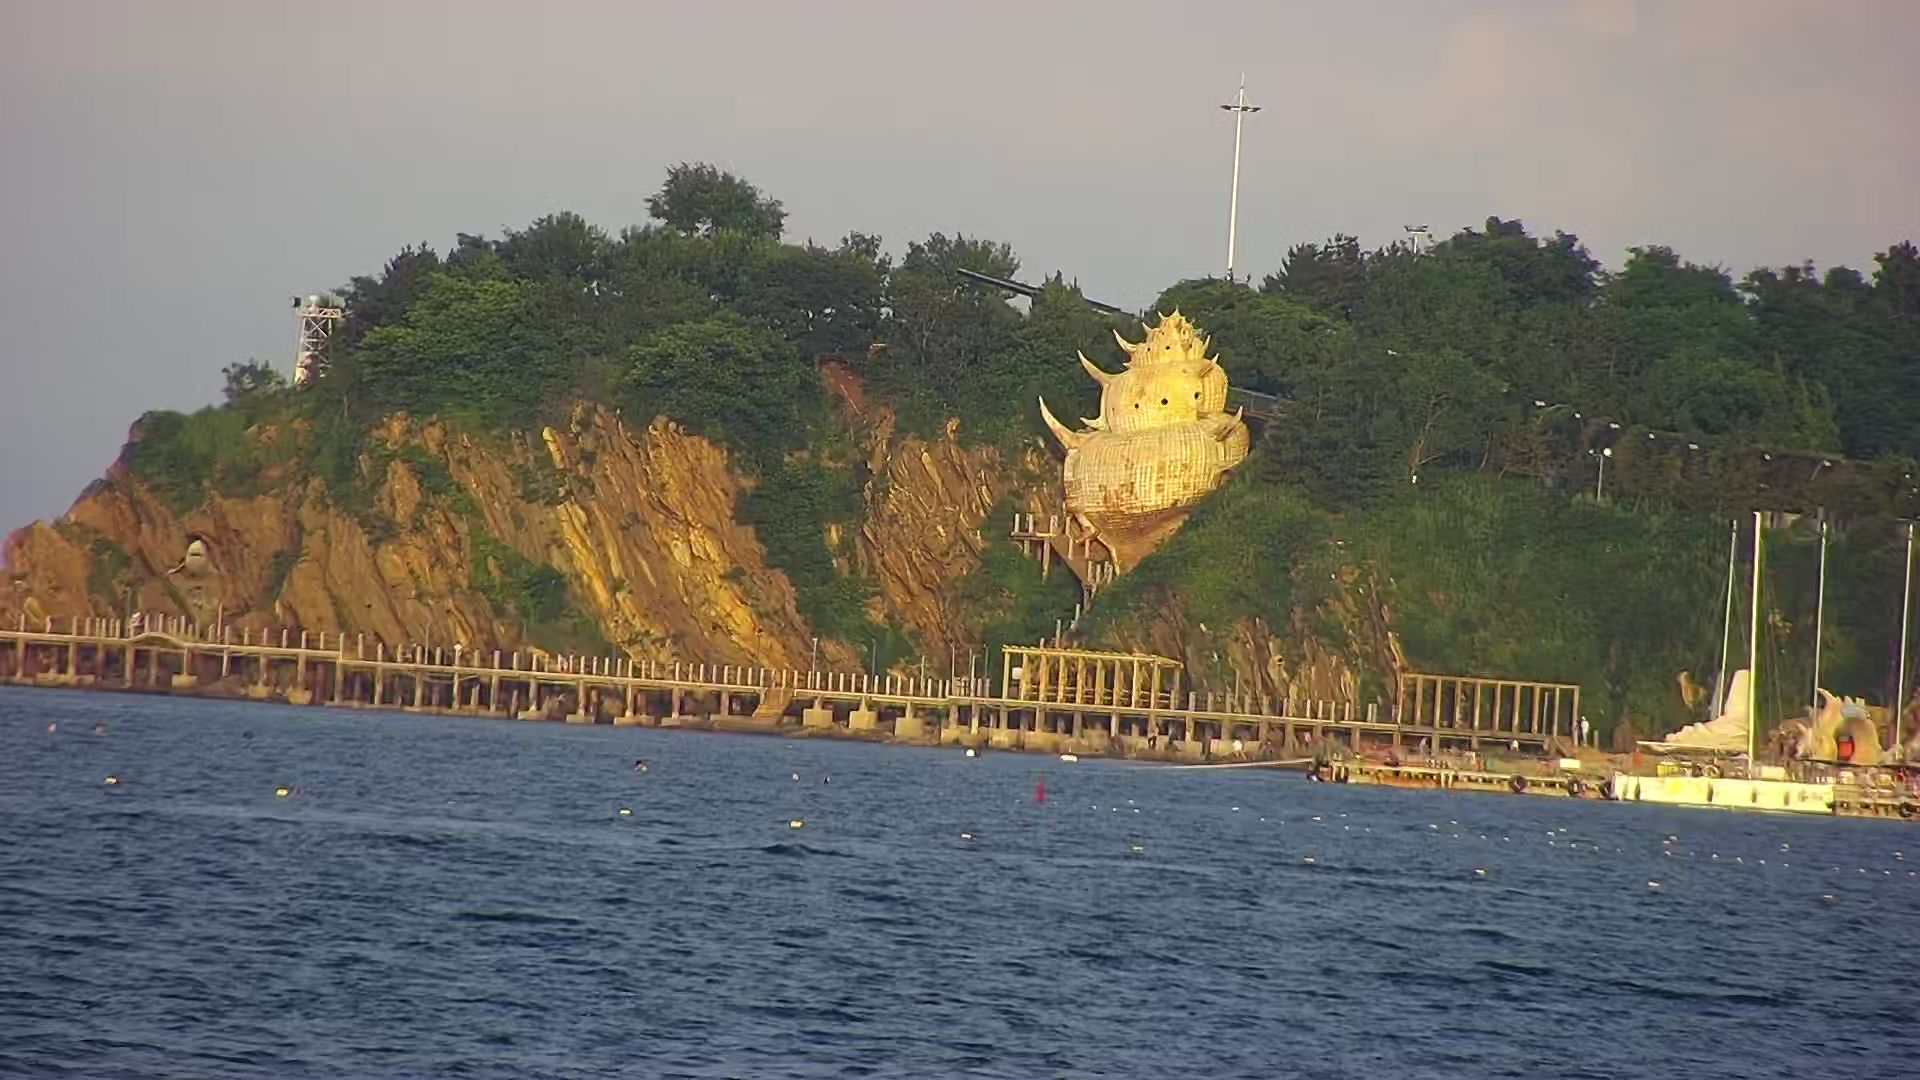bridge: (7, 597, 1586, 783)
